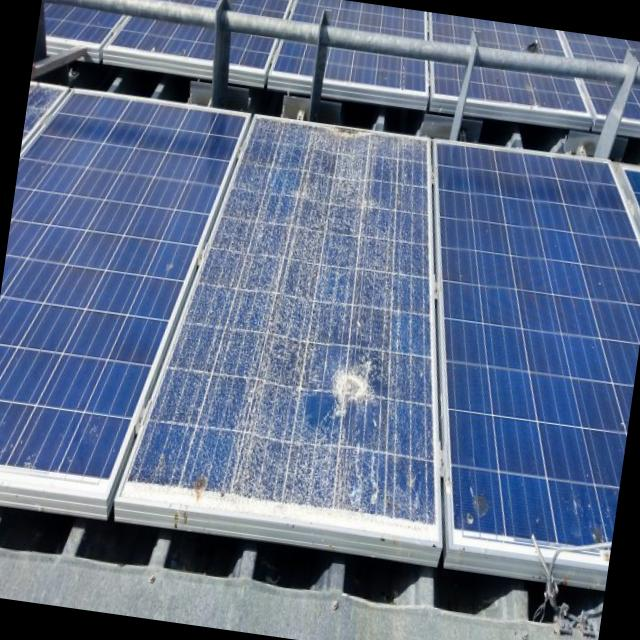faulty: (128, 120, 436, 514), (450, 460, 620, 554), (0, 396, 117, 480), (154, 250, 184, 288)
no faulty: (439, 146, 640, 473)
